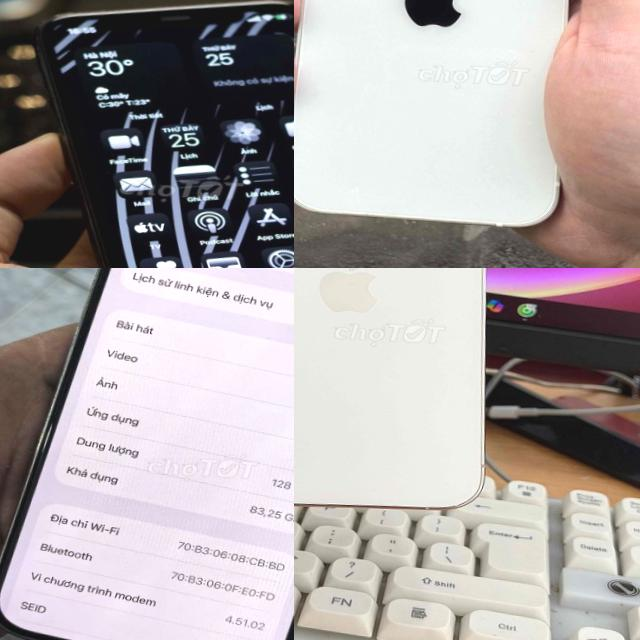gen_11: (37, 0, 294, 268)
gen_12_13: (294, 0, 597, 229), (294, 268, 512, 524)
gen_14: (0, 268, 294, 640)
